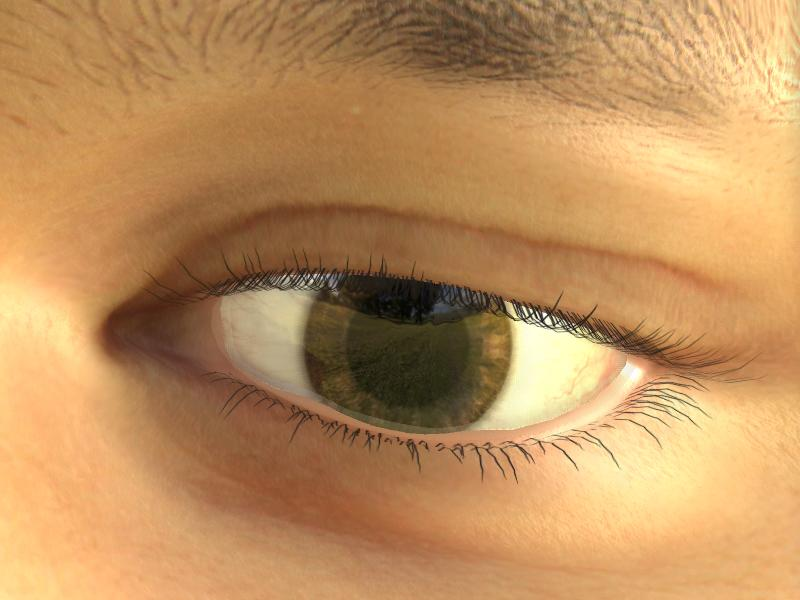eye: (303, 272, 515, 435)
